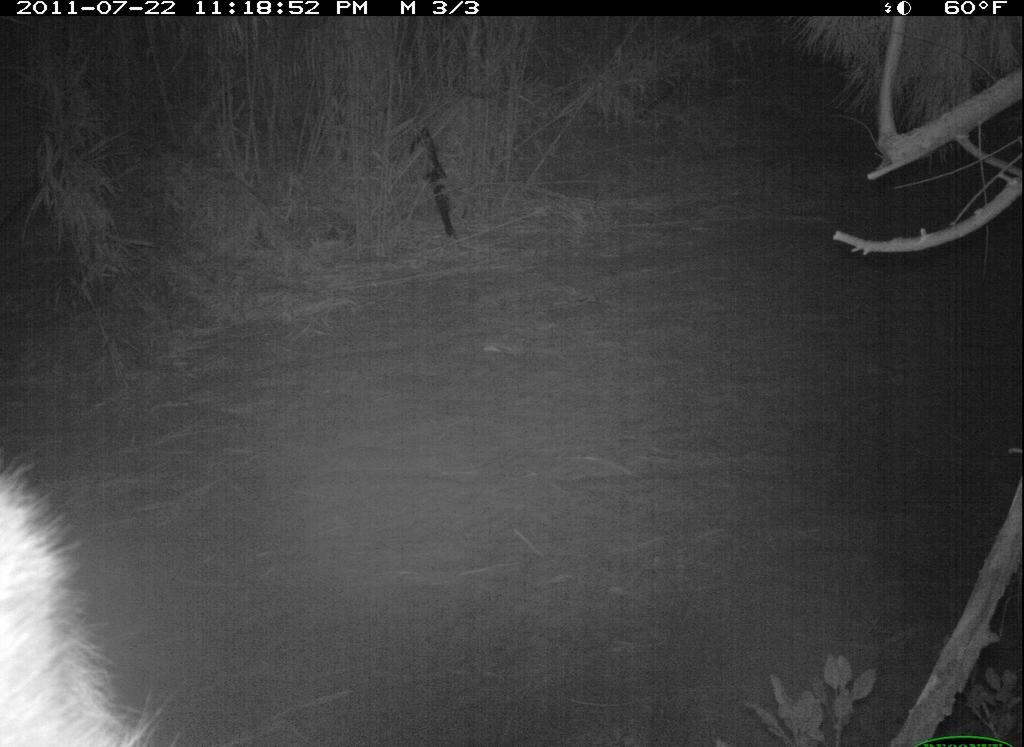raccoon: (3, 454, 180, 742)
